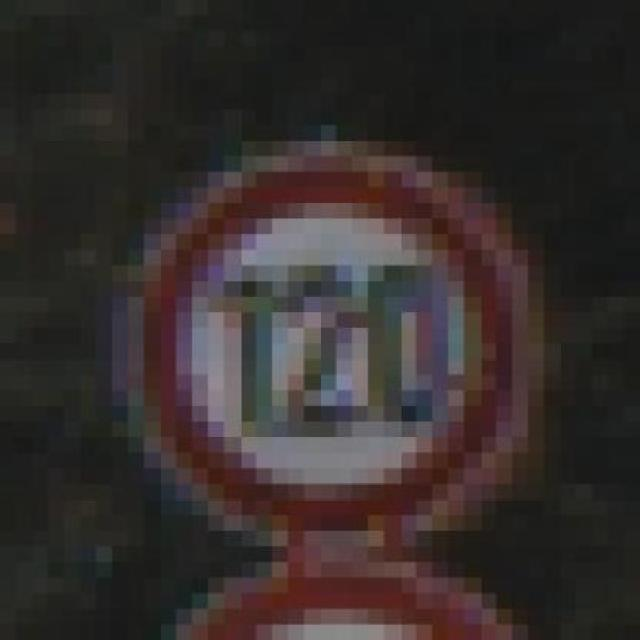forb_speed_over_120: (144, 160, 518, 543)
